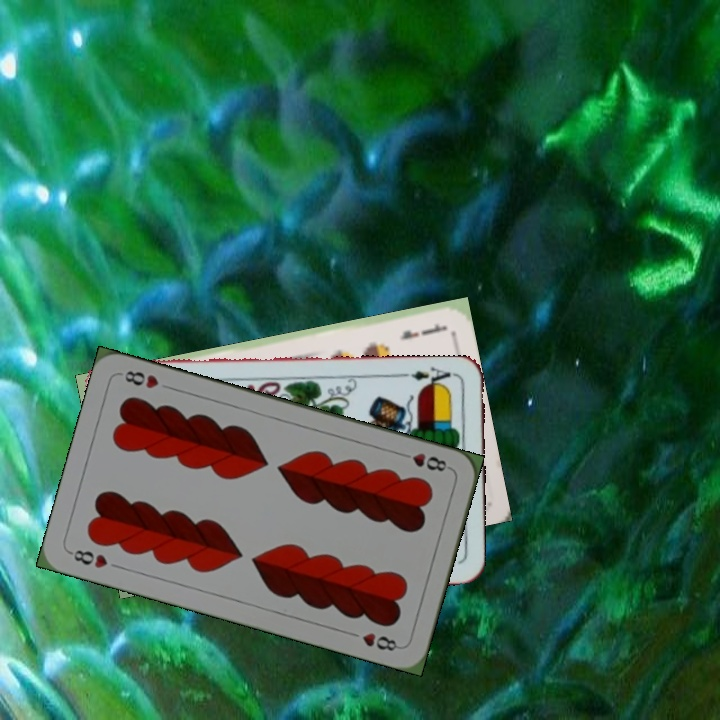E7: (396, 320, 447, 343)
EA: (399, 363, 458, 390)
H8: (395, 448, 453, 475), (65, 545, 110, 571)
